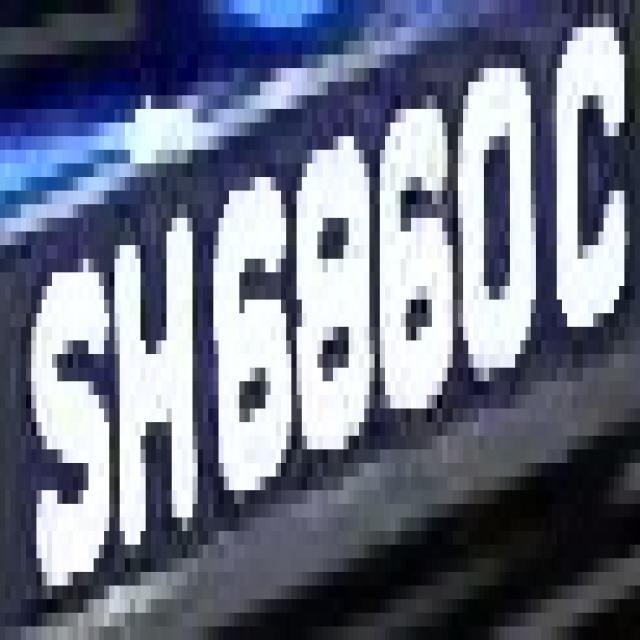0: (452, 41, 552, 408)
6: (198, 136, 296, 531), (375, 82, 463, 449)
8: (276, 109, 385, 490)
C: (541, 14, 635, 354)
H: (99, 177, 218, 586)
S: (15, 218, 120, 585)
